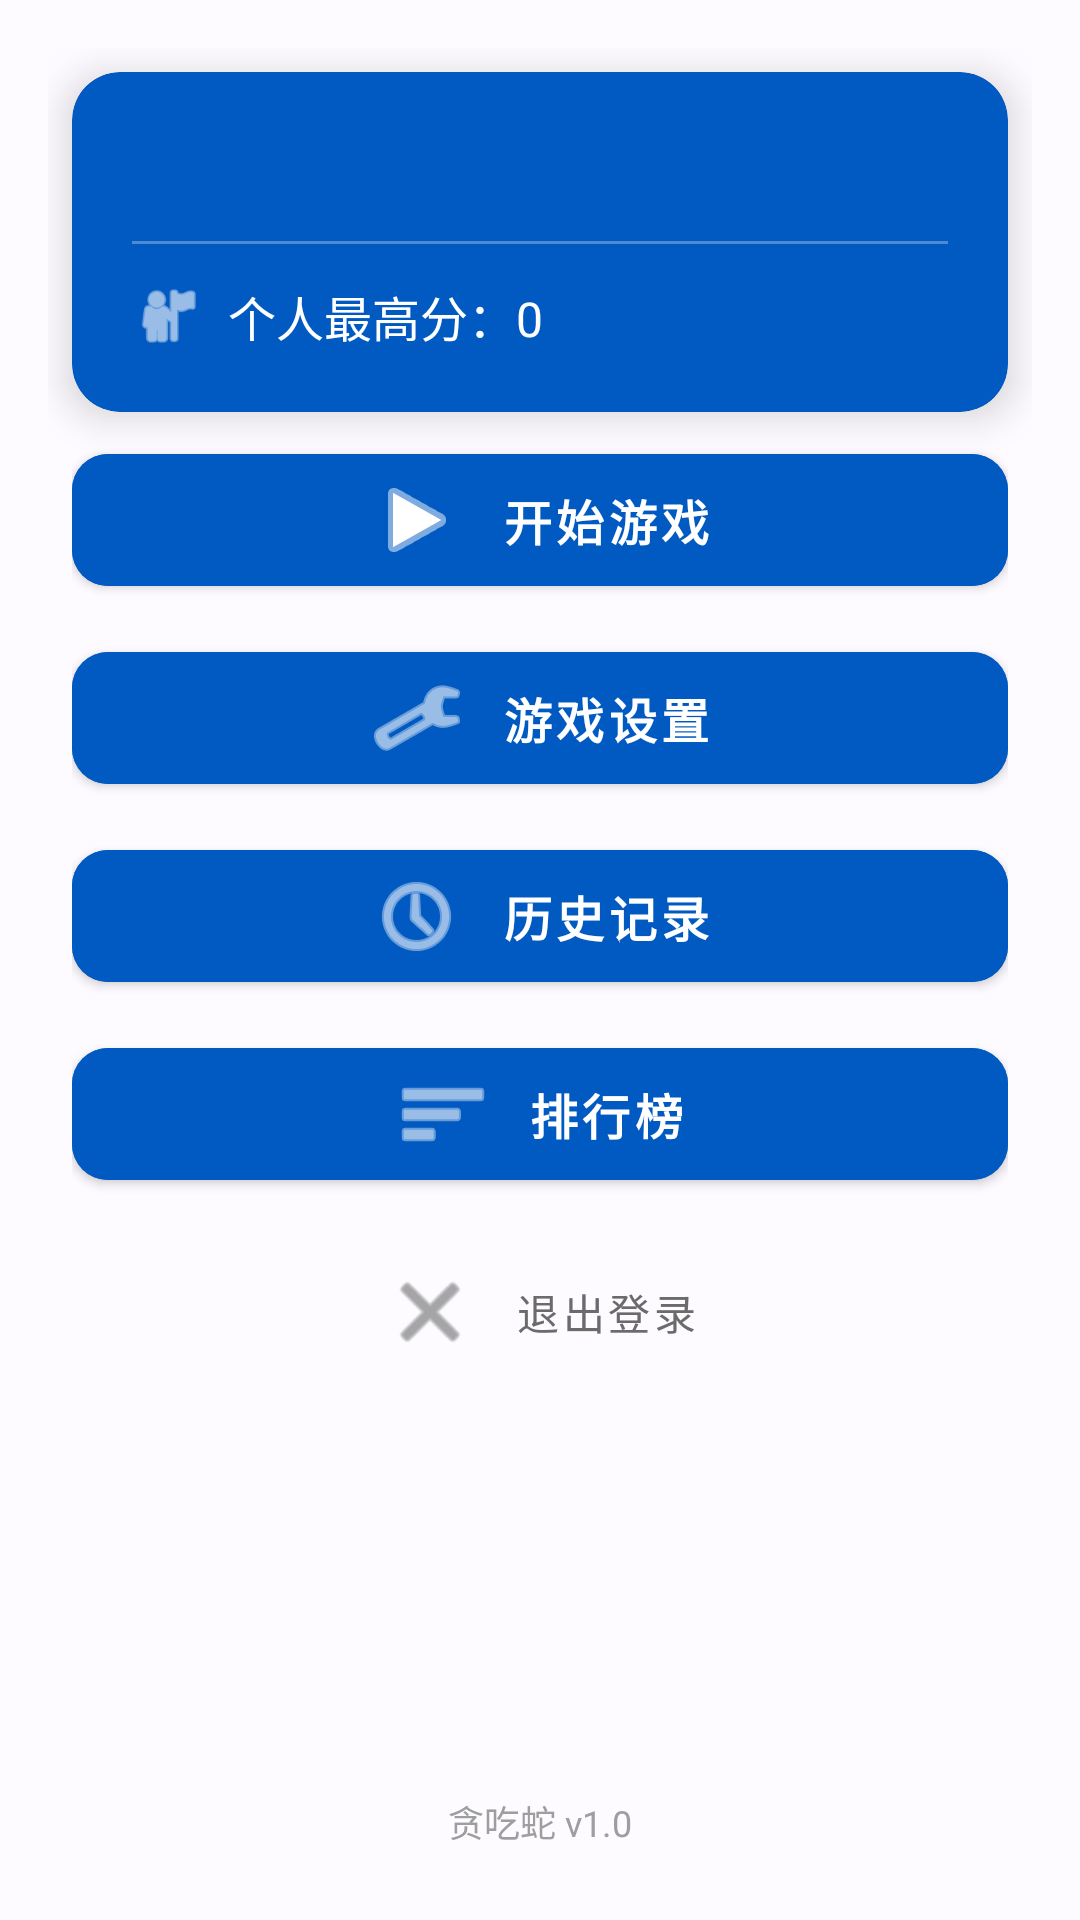

Icon click points for this 1080×1920 phone screenshot, format (x,y):
最高分图标: (169,316)
